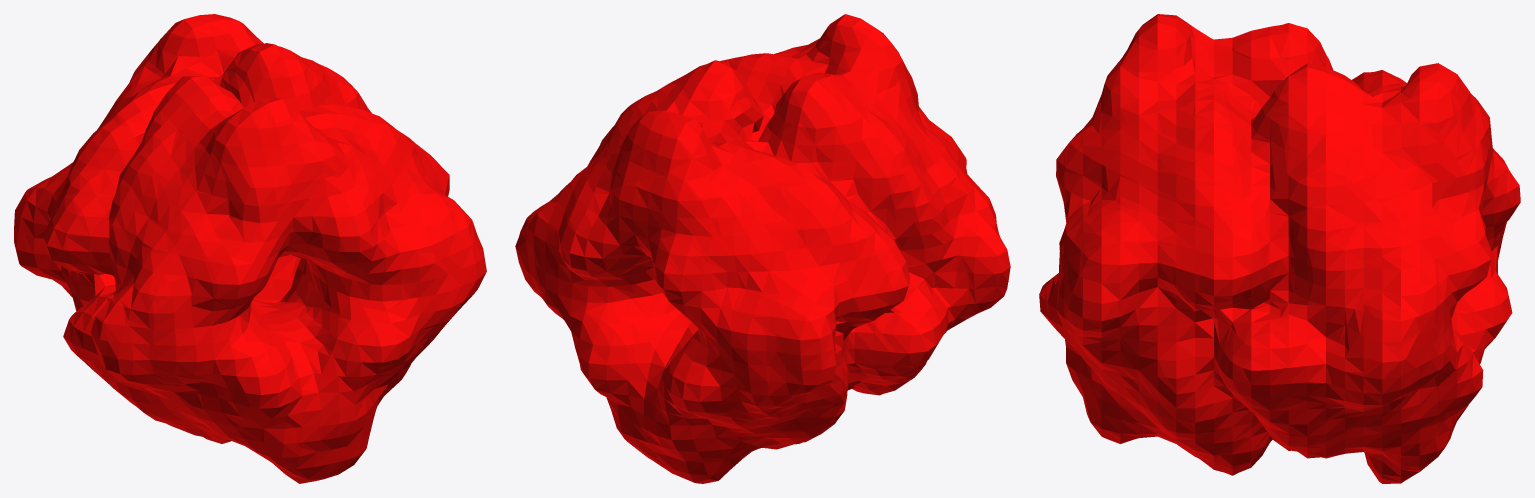
File: folX_coarse.dae
3 renders of one model, left to right at view 1: azimuth 30°, elevation 25°; view 2: azimuth 150°, elevation 25°; view 3: azimuth 270°, elevation 25°, orthographic. The views are drawn at different scales.
Parts seen in each view (by area): view 1: folX; view 2: folX; view 3: folX.
Boxes of the visible parts, x1=… form: folX: x1=14, y1=14, x2=486, y2=483; folX: x1=515, y1=14, x2=1010, y2=483; folX: x1=1039, y1=14, x2=1520, y2=483.
Bounding box in the file's own units: 83.41 × 79.84 × 80.84.
